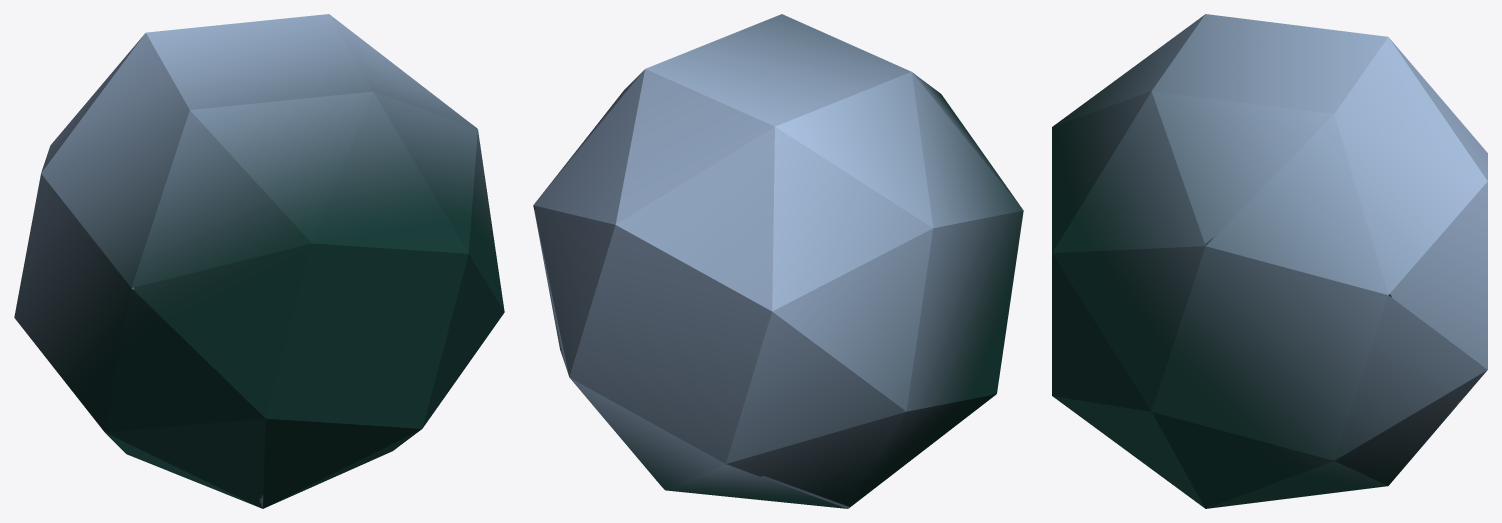
The model's file is Snub Cube.glb.
3 views of the same model, side by side, from view 1: azimuth 30°, elevation 25°; view 2: azimuth 150°, elevation 25°; view 3: azimuth 270°, elevation 25° (orthographic).
Visible parts, largest first — view 1: Snub Cube; view 2: Snub Cube; view 3: Snub Cube.
Part boxes in pixels (x1=…): Snub Cube: x1=14, y1=14, x2=504, y2=508; Snub Cube: x1=533, y1=14, x2=1023, y2=508; Snub Cube: x1=1052, y1=14, x2=1487, y2=508.
Size of the model in its own units: 1.51 by 1.51 by 1.51.
1 material, 1 textured.
